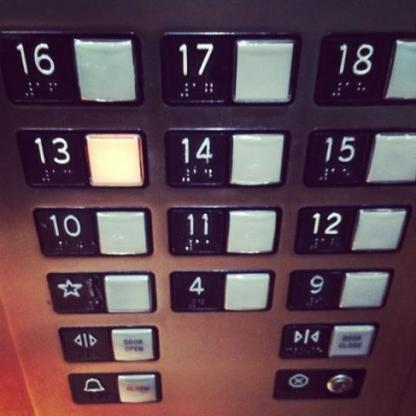10: (29, 203, 156, 260)
11: (162, 202, 284, 257)
12: (290, 202, 414, 256)
13: (12, 123, 150, 190)
14: (160, 124, 291, 190)
15: (297, 124, 415, 189)
16: (0, 26, 144, 106)
17: (156, 26, 302, 108)
18: (309, 26, 415, 108)
4: (165, 267, 277, 313)
9: (282, 265, 396, 313)
alarm: (64, 368, 163, 406)
close: (274, 320, 378, 361)
open: (56, 322, 160, 364)
s: (42, 268, 159, 316)
stop: (270, 366, 367, 401)
